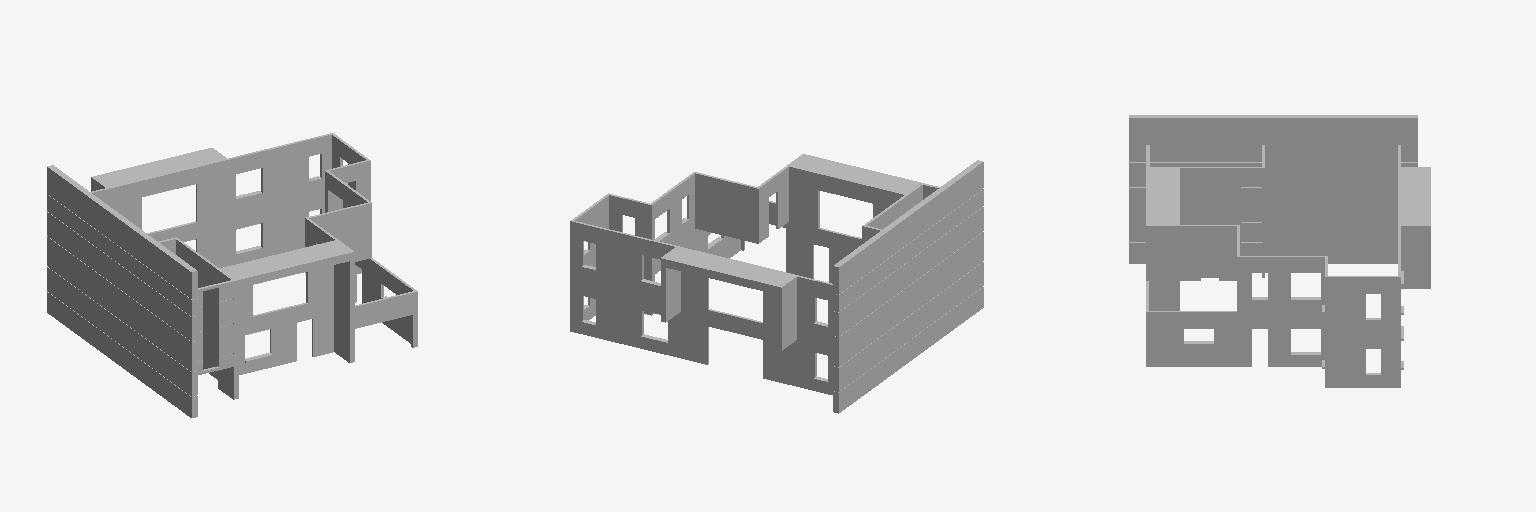
3 renders of one model, left to right at view 1: azimuth 30°, elevation 25°; view 2: azimuth 150°, elevation 25°; view 3: azimuth 270°, elevation 25°, orthographic.
Parts seen in each view (by area): view 1: MH1_OBJ_10_MH1_OBJ_10.001; view 2: MH1_OBJ_10_MH1_OBJ_10.001; view 3: MH1_OBJ_10_MH1_OBJ_10.001.
Boxes of the visible parts, x1,y1,x2,y2 form: MH1_OBJ_10_MH1_OBJ_10.001: [47, 133, 417, 417]; MH1_OBJ_10_MH1_OBJ_10.001: [570, 154, 983, 413]; MH1_OBJ_10_MH1_OBJ_10.001: [1129, 115, 1430, 387].
Size of the model in its own units: 81.66 by 40.77 by 76.42.